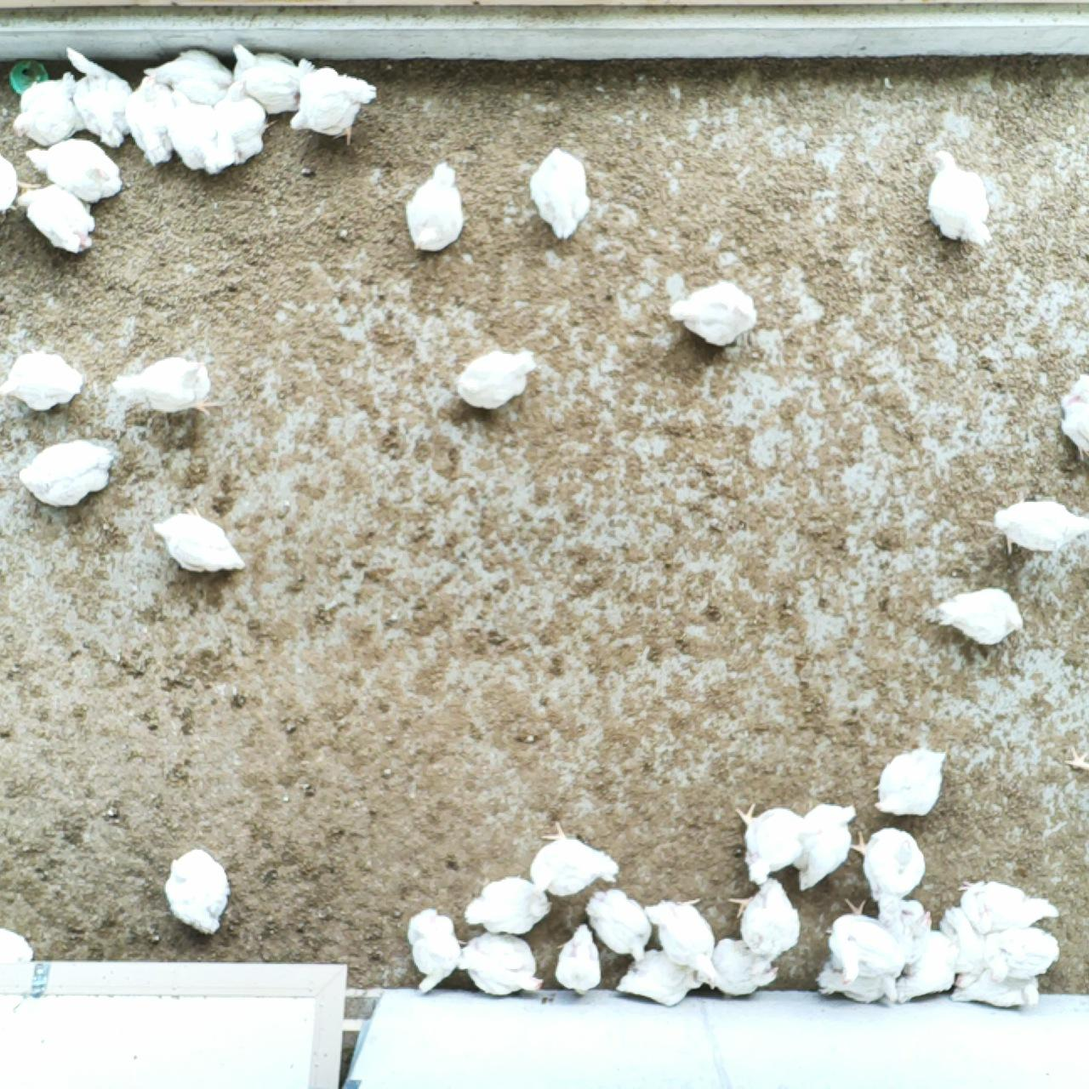chicken: (287, 61, 380, 147), (922, 145, 1001, 246), (63, 44, 138, 150), (643, 897, 726, 991), (149, 502, 249, 579), (664, 273, 762, 351), (16, 436, 118, 510), (160, 844, 235, 941), (108, 351, 224, 413), (13, 176, 99, 259), (19, 137, 127, 203), (528, 144, 595, 245), (452, 929, 549, 998), (138, 40, 237, 107), (959, 867, 1057, 934), (455, 336, 542, 411), (822, 895, 895, 983), (529, 822, 617, 894), (853, 824, 927, 909), (933, 584, 1024, 653), (225, 44, 313, 112), (988, 494, 1089, 553), (404, 160, 464, 259), (735, 803, 806, 884), (0, 349, 84, 417), (14, 67, 85, 147), (406, 904, 467, 997), (871, 747, 950, 818), (798, 799, 856, 894), (731, 878, 800, 957), (586, 887, 656, 964), (697, 937, 785, 998), (461, 875, 547, 937), (885, 933, 960, 1004), (211, 76, 264, 175), (162, 91, 225, 172), (871, 894, 935, 972), (124, 75, 175, 171), (617, 951, 703, 1005), (802, 958, 891, 1009), (982, 926, 1064, 981), (551, 919, 606, 998), (1050, 366, 1089, 463), (947, 971, 1038, 1011), (936, 908, 982, 987), (0, 145, 45, 218), (0, 920, 35, 968)
